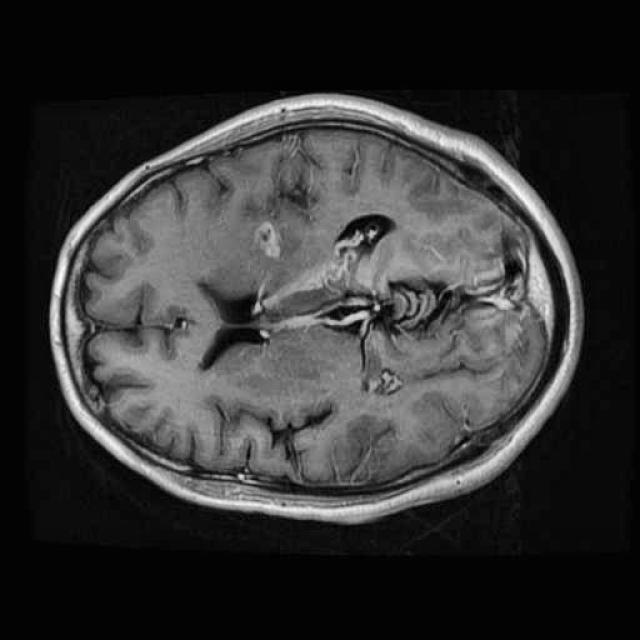Non-Tumor: (239, 208, 296, 274)
